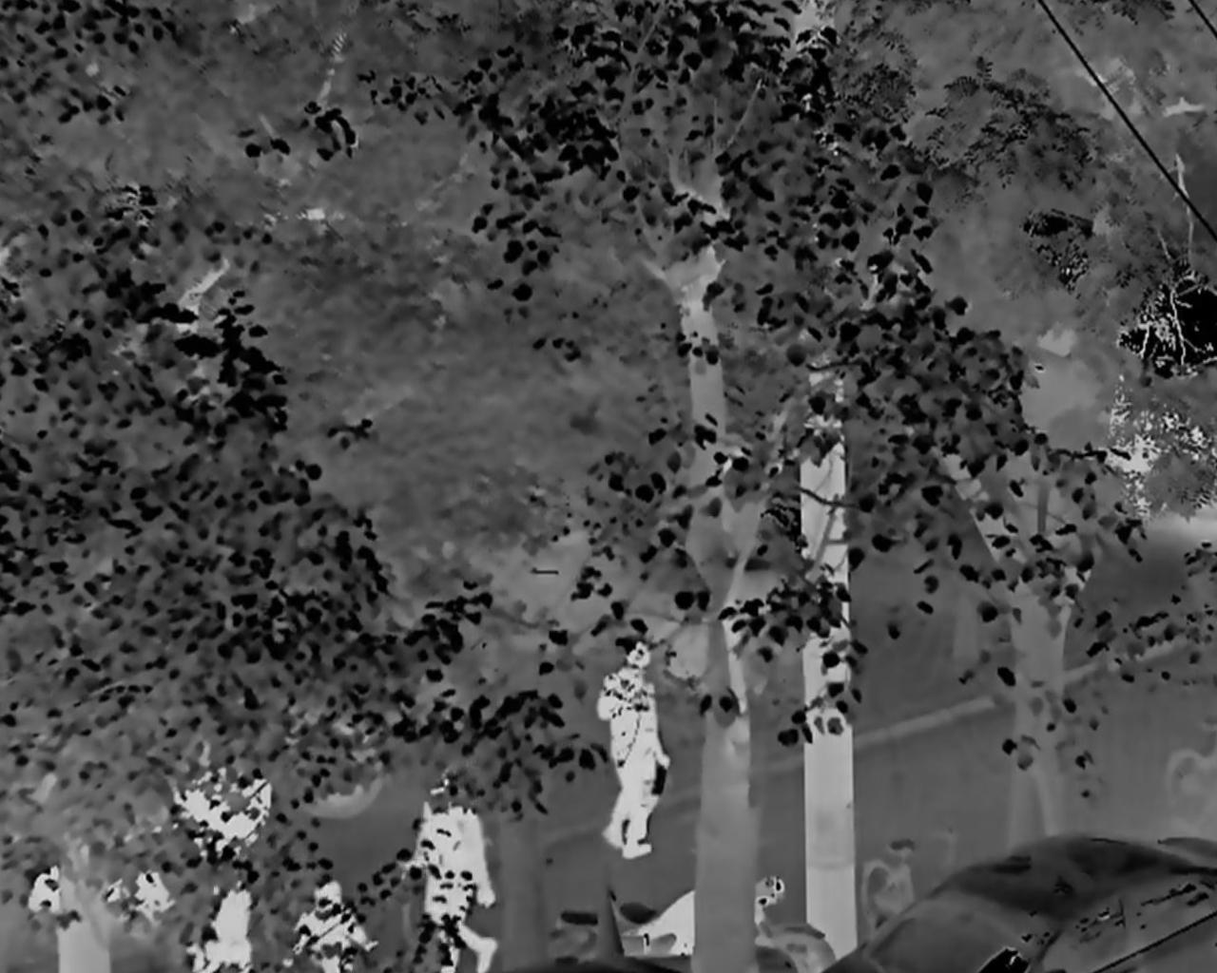person: (401, 775, 498, 973), (594, 637, 670, 860), (291, 877, 373, 973), (188, 874, 257, 973)
